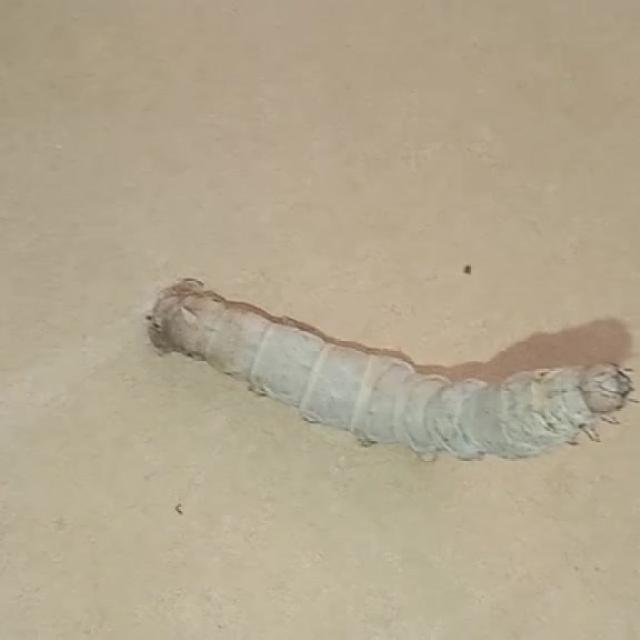Grasserie: (127, 259, 633, 520)
